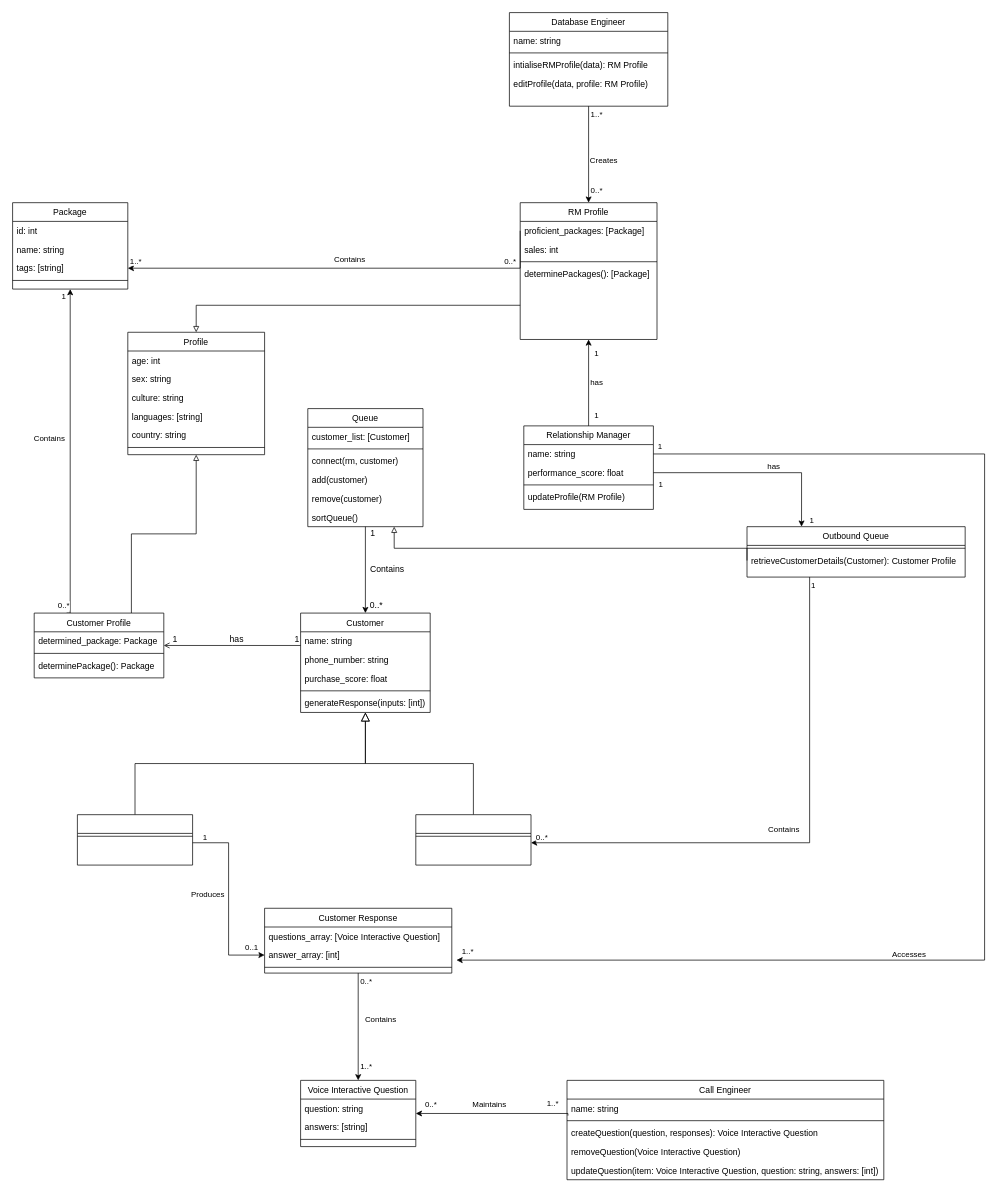
This 1003x1194 diagram has some shape labels left out. The shapes that lost their labels are listed below. From the top down, each one's centre as x and y in pixels, then its label:
pixel 135 839: Inbound Customer
pixel 473 839: Outbound Customer
